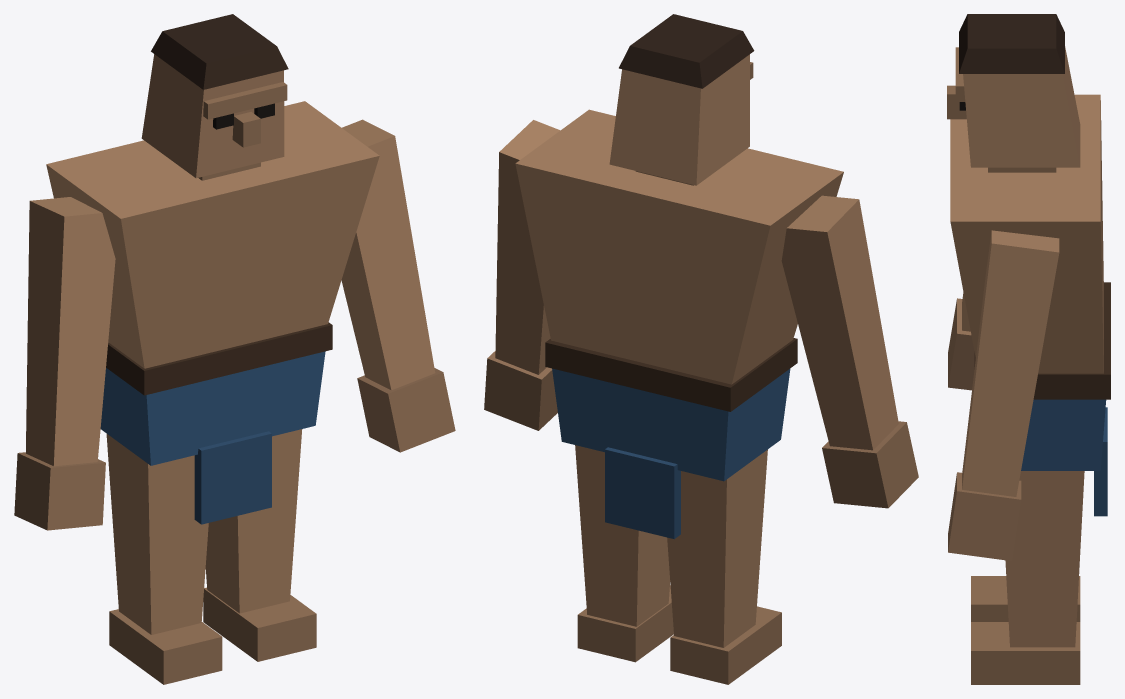
The model's file is human_team_b.glb.
3 renders of one model, left to right at view 1: azimuth 30°, elevation 25°; view 2: azimuth 150°, elevation 25°; view 3: azimuth 270°, elevation 25°, orthographic. The views are drawn at different scales.
Parts seen in each view (by area): view 1: human_team_b; view 2: human_team_b; view 3: human_team_b.
Part boxes in pixels (left/top/right/bottom): human_team_b: left=14, top=14, right=455, bottom=684; human_team_b: left=484, top=14, right=918, bottom=684; human_team_b: left=947, top=14, right=1110, bottom=684.
Bounding box in the file's own units: 1.4 × 1.99 × 0.48.
